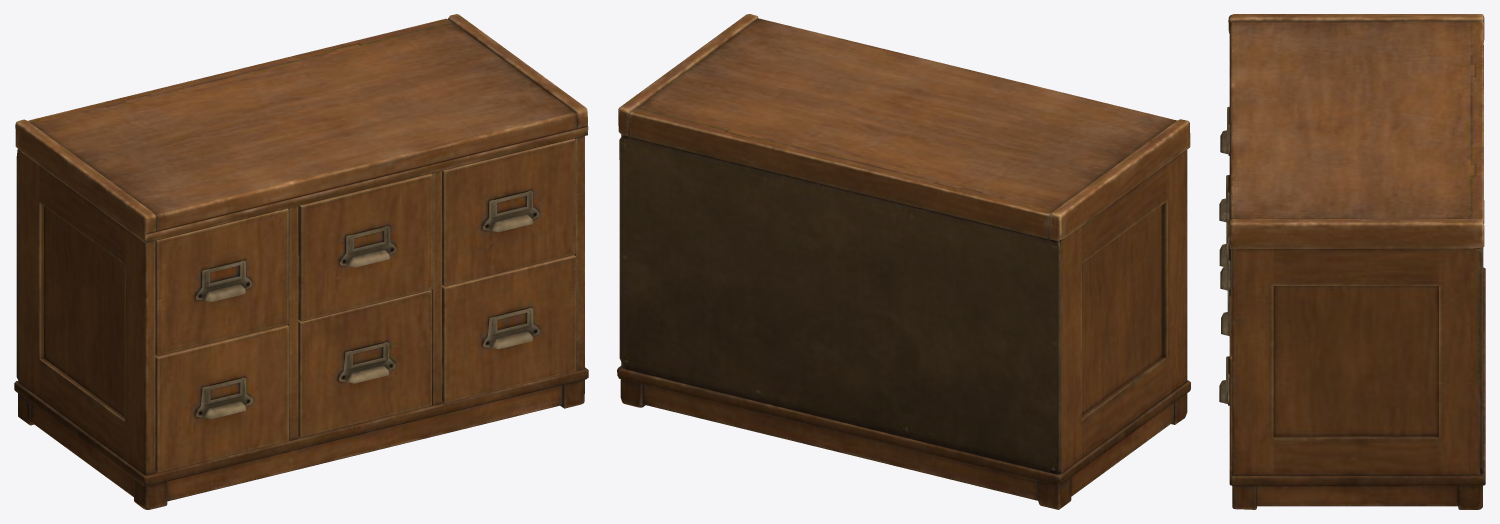
File: vintage_wooden_drawer_01_lod1.glb
3 views of the same model, side by side, from view 1: azimuth 30°, elevation 25°; view 2: azimuth 150°, elevation 25°; view 3: azimuth 270°, elevation 25° (orthographic). The views are drawn at different scales.
Visible parts, largest first — view 1: vintage_wooden_drawer_01_body, vintage_wooden_drawer_01_drawer02, vintage_wooden_drawer_01_drawer04, vintage_wooden_drawer_01_drawer06, vintage_wooden_drawer_01_drawer03, vintage_wooden_drawer_01_drawer01, vintage_wooden_drawer_01_drawer05; view 2: vintage_wooden_drawer_01_body; view 3: vintage_wooden_drawer_01_body, vintage_wooden_drawer_01_drawer06, vintage_wooden_drawer_01_drawer03, vintage_wooden_drawer_01_drawer02.
Boxes of the visible parts, left/top/right/bottom form: vintage_wooden_drawer_01_body: left=14, top=14, right=588, bottom=509; vintage_wooden_drawer_01_drawer02: left=298, top=173, right=432, bottom=321; vintage_wooden_drawer_01_drawer04: left=155, top=324, right=288, bottom=472; vintage_wooden_drawer_01_drawer06: left=442, top=255, right=575, bottom=403; vintage_wooden_drawer_01_drawer03: left=442, top=138, right=575, bottom=286; vintage_wooden_drawer_01_drawer01: left=155, top=208, right=288, bottom=355; vintage_wooden_drawer_01_drawer05: left=298, top=290, right=431, bottom=437; vintage_wooden_drawer_01_body: left=617, top=14, right=1190, bottom=509; vintage_wooden_drawer_01_body: left=1228, top=14, right=1485, bottom=509; vintage_wooden_drawer_01_drawer06: left=1219, top=296, right=1232, bottom=469; vintage_wooden_drawer_01_drawer03: left=1220, top=243, right=1232, bottom=356; vintage_wooden_drawer_01_drawer02: left=1219, top=175, right=1229, bottom=224.
Size of the model in its own units: 0.8566 by 0.5454 by 0.4569.
Materials: 1 (1 with a texture image).
